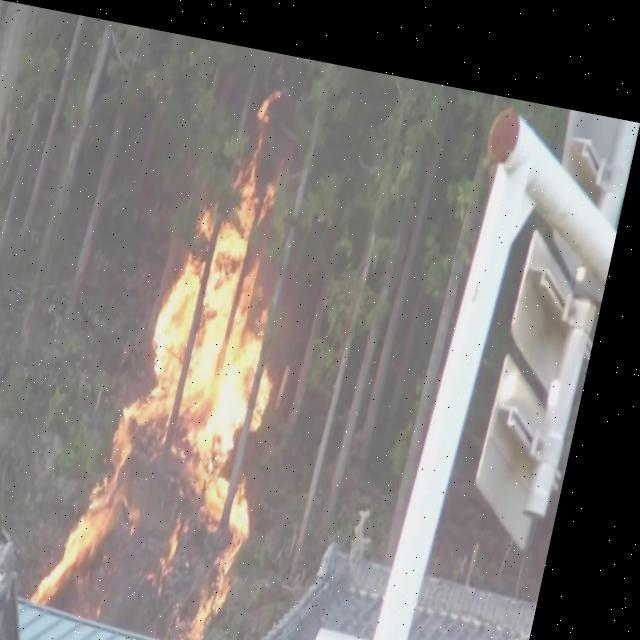Fire: (63, 54, 346, 638)
